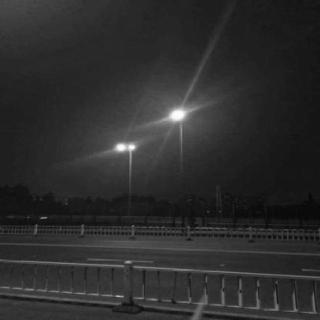other: (161, 104, 195, 128), (110, 136, 143, 154)
